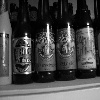beer: (34, 1, 54, 86)
